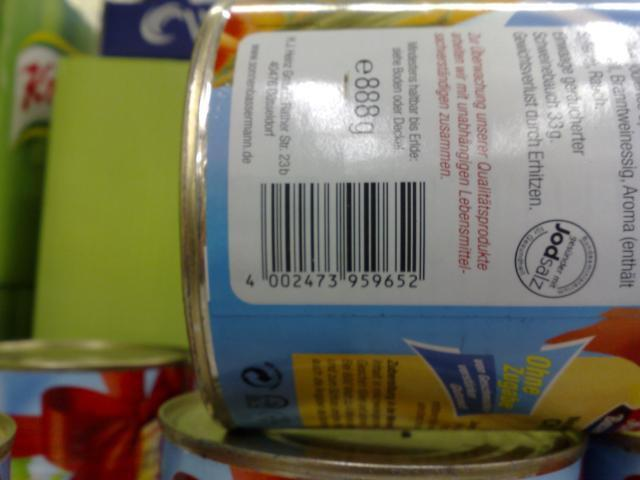Barcode: (236, 178, 439, 296)
